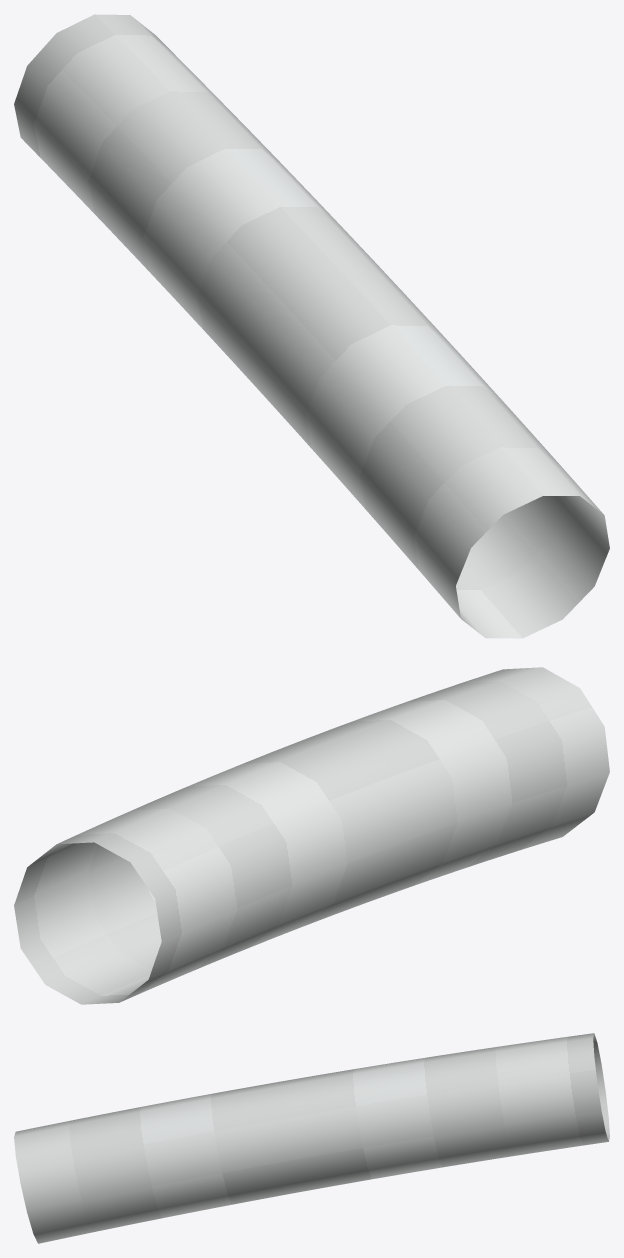
File: luminairearm_caltrans15ft_c4.obj
3 renders of one model, top to bottom at view 1: azimuth 30°, elevation 25°; view 2: azimuth 150°, elevation 25°; view 3: azimuth 270°, elevation 25°, orthographic. The views are drawn at different scales.
Visible parts, largest first — view 1: luminairearm_caltrans15ft_c4; view 2: luminairearm_caltrans15ft_c4; view 3: luminairearm_caltrans15ft_c4.
Part boxes in pixels (left/top/right/bottom): luminairearm_caltrans15ft_c4: left=14, top=14, right=609, bottom=638; luminairearm_caltrans15ft_c4: left=14, top=667, right=609, bottom=1004; luminairearm_caltrans15ft_c4: left=14, top=1033, right=609, bottom=1243.
Size of the model in its own units: 0.2 by 0.3848 by 1.04.
